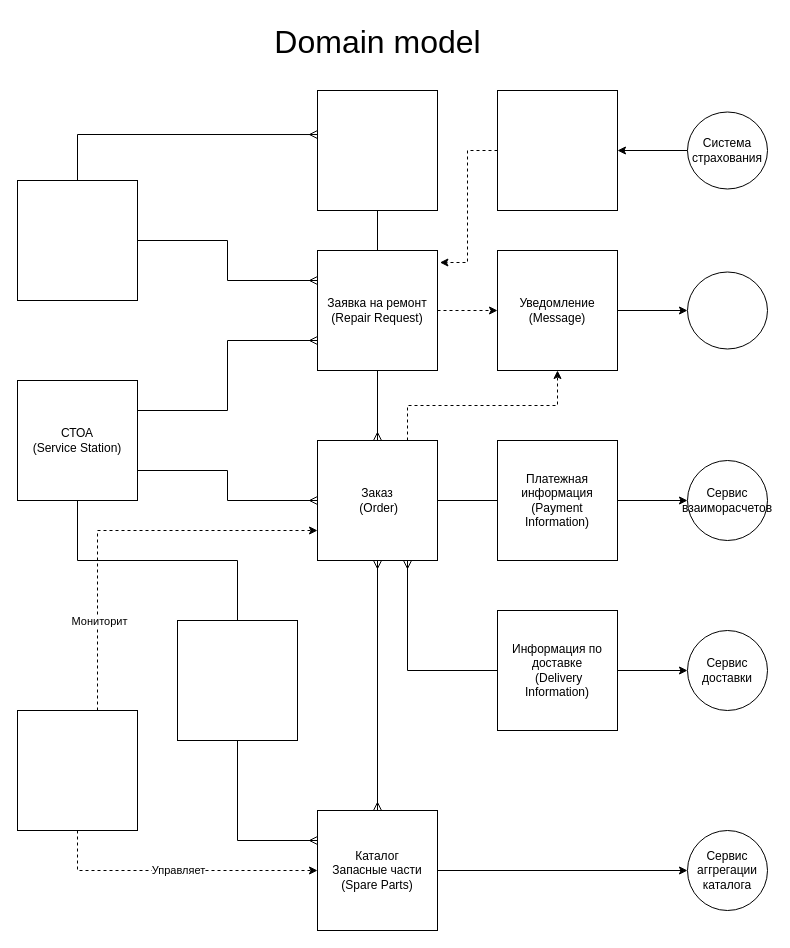
The diagram is 790 pixels wide and 948 high, and some of its shapes have lost their labels. Here are the shapes that lost their labels. From the top down, the centre of each, then its label:
point 377,150: Отзыв (Review)
point 557,150: Убыток (Lesion)
point 77,240: Клиент (Client)
point 727,310: Cистема уведомлений
point 237,680: Корзина (Cart)
point 77,770: Менеджер (Manager)
